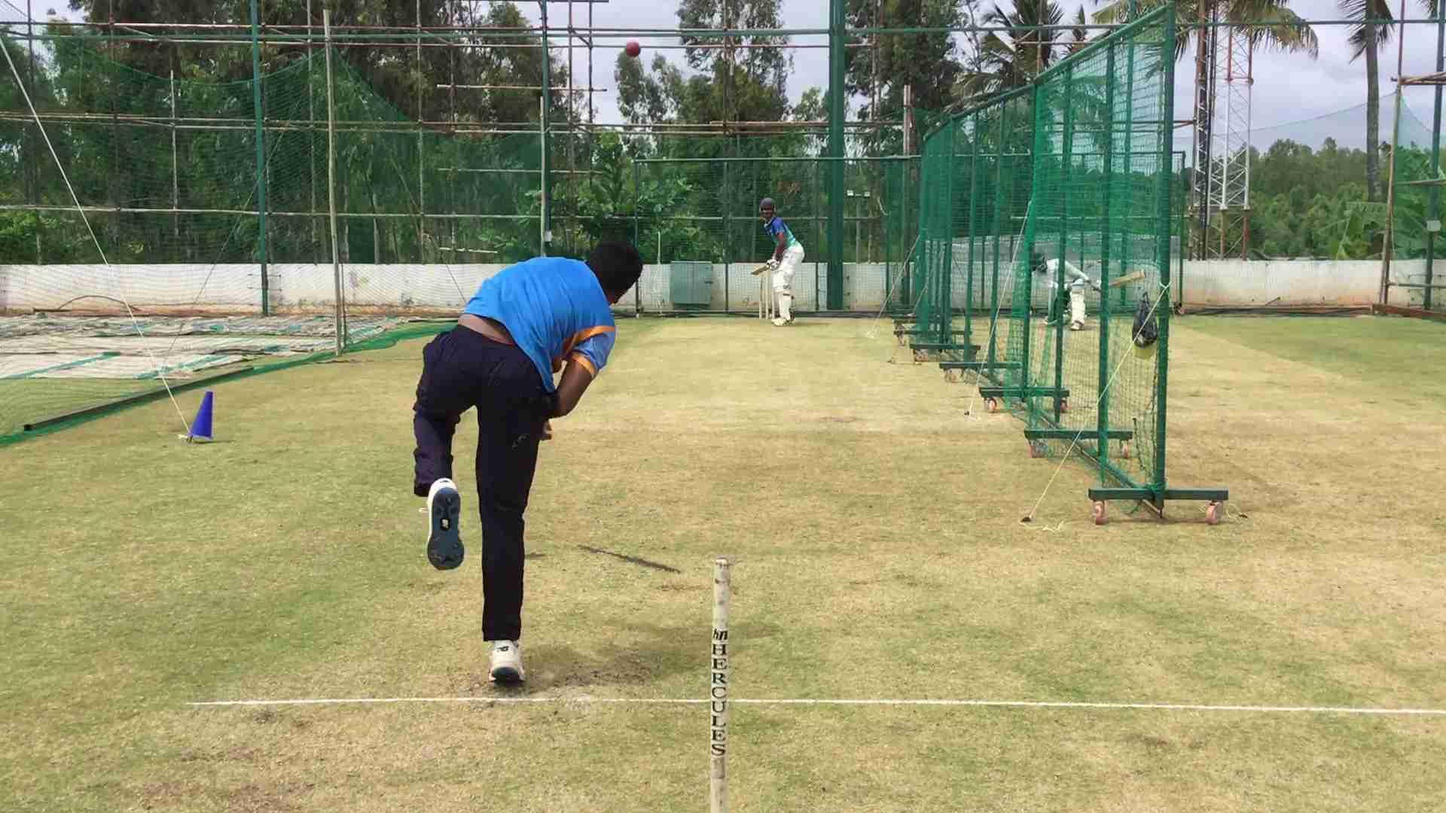batsman: (754, 193, 810, 336)
